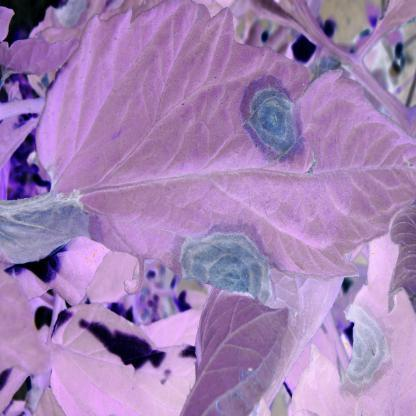Tomato leaf mosaic virus: (5, 7, 412, 308)
